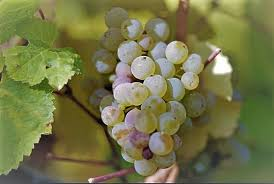Green grapes: (92, 8, 204, 177)
